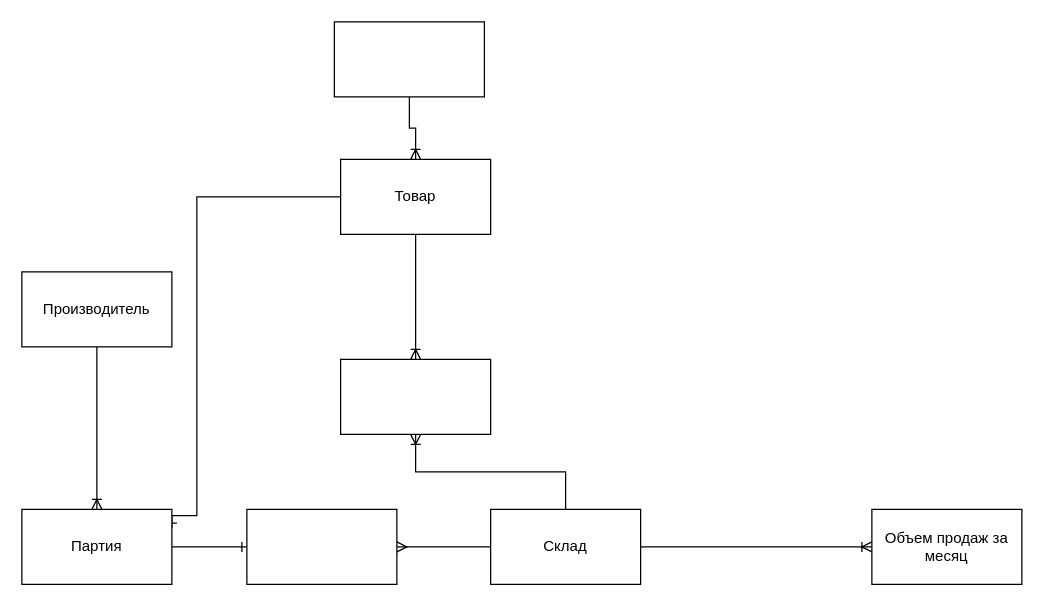
Image size: 1044x606. Some labels were removed from this diagram. The shapes that lost their labels are listed below. From the top down, each one's centre as x and y in pixels, then its label:
point (408, 59): Категория
point (415, 396): Хранящиеся товары на складе
point (321, 546): Прибытие партии (дата)
